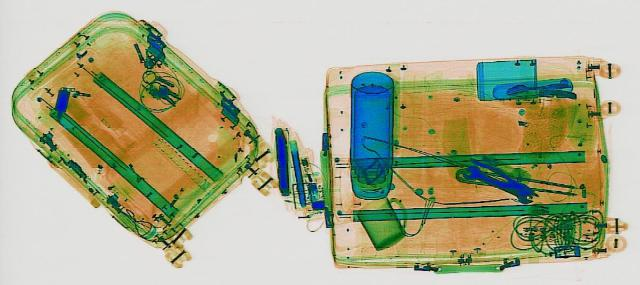Wrench: (448, 162, 550, 204)
